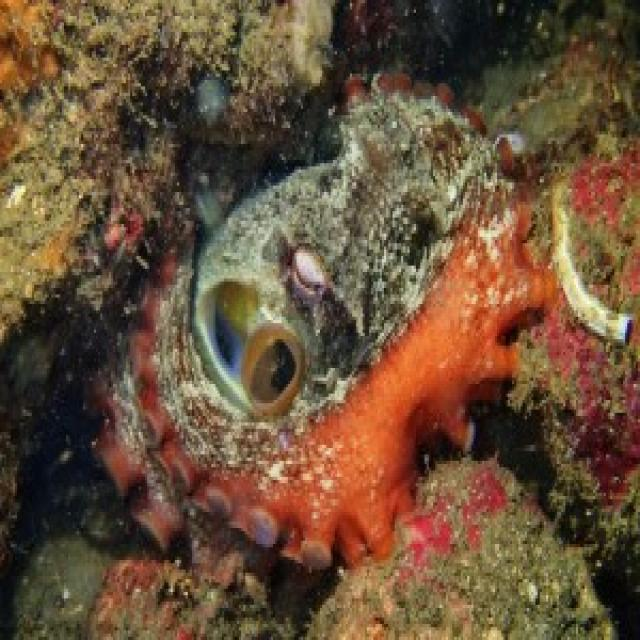Octo: (71, 64, 569, 577)
